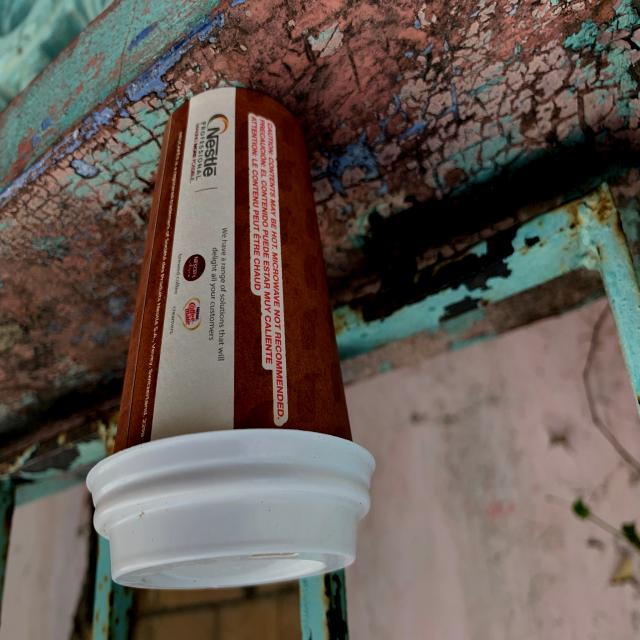Paper cup: (113, 88, 353, 453)
Plastic lid: (87, 428, 375, 590)
